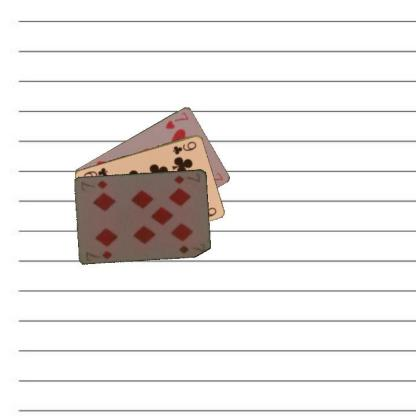7d: (172, 170, 202, 185), (84, 248, 113, 262)
7h: (163, 109, 190, 130)
9c: (170, 139, 197, 156)
